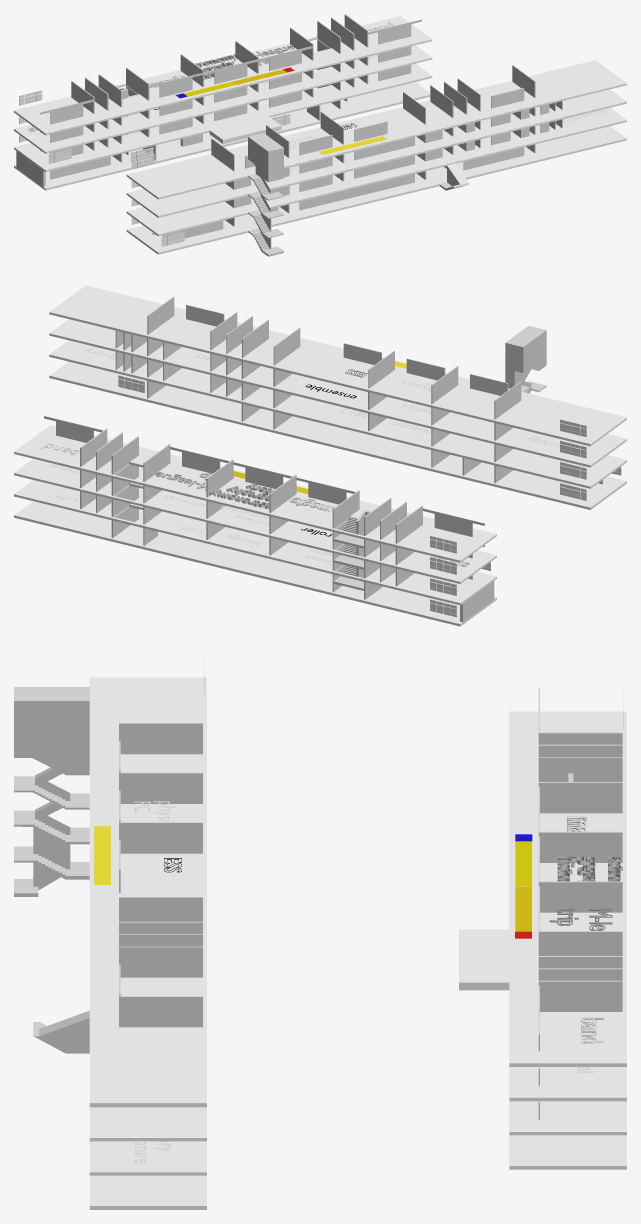
The model's file is fromshogitomagic.glb.
3 views of the same model, one above another, from view 1: azimuth 30°, elevation 25°; view 2: azimuth 150°, elevation 25°; view 3: azimuth 270°, elevation 25° (orthographic). The views are drawn at different scales.
Parts seen in each view (by area): view 1: floor S 4F, floor 4F, floor S 3F, floor S 2F, floor S 1F, floor 3F, floor 2F, floor 1F, Str S 4F, wall HomeRoom~HomeRoom.002, ceiling Gate.001, wall 1C~1C (+35 smaller); view 2: floor S 4F, floor S 1F, floor S 2F, floor S 3F, floor 4F, floor 1F, floor 2F, floor 3F, Str S 4F, 天文 地歴, wall Civics~Civics, wall 1D~1D (+27 smaller); view 3: floor S 4F, floor 4F, Str S 4F, floor 1F, floor S 3F, floor S 1F, floor 2F, floor 3F, floor S 2F, ceiling Gate.001, Str S 1F, wall 1A~Out.001 (+24 smaller).
Part boxes in pixels (x1=…): floor S 4F: x1=126, y1=60, x2=626, y2=199; floor 4F: x1=14, y1=16, x2=432, y2=135; floor S 3F: x1=126, y1=89, x2=626, y2=217; floor S 2F: x1=126, y1=108, x2=626, y2=236; floor S 1F: x1=126, y1=126, x2=626, y2=254; floor 3F: x1=14, y1=45, x2=432, y2=153; floor 2F: x1=14, y1=63, x2=432, y2=172; floor 1F: x1=14, y1=82, x2=430, y2=190; Str S 4F: x1=248, y1=133, x2=283, y2=200; wall HomeRoom~HomeRoom.002: x1=299, y1=174, x2=414, y2=210; ceiling Gate.001: x1=209, y1=116, x2=281, y2=143; wall 1C~1C: x1=204, y1=59, x2=257, y2=84; floor S 4F: x1=49, y1=285, x2=626, y2=446; floor S 1F: x1=49, y1=361, x2=626, y2=509; floor S 2F: x1=49, y1=340, x2=626, y2=488; floor S 3F: x1=49, y1=319, x2=626, y2=467; floor 4F: x1=14, y1=425, x2=496, y2=562; floor 1F: x1=14, y1=501, x2=496, y2=626; floor 2F: x1=14, y1=480, x2=496, y2=605; floor 3F: x1=14, y1=459, x2=496, y2=583; Str S 4F: x1=505, y1=326, x2=546, y2=392; 天文 地歴: x1=209, y1=483, x2=274, y2=508; wall Civics~Civics: x1=422, y1=508, x2=484, y2=536; wall 1D~1D: x1=296, y1=477, x2=355, y2=504; floor S 4F: x1=89, y1=677, x2=206, y2=1107; floor 4F: x1=509, y1=711, x2=626, y2=1066; Str S 4F: x1=14, y1=687, x2=89, y2=792; floor 1F: x1=509, y1=1135, x2=626, y2=1169; floor S 3F: x1=89, y1=1107, x2=206, y2=1141; floor S 1F: x1=89, y1=1175, x2=206, y2=1209; floor 2F: x1=509, y1=1101, x2=626, y2=1135; floor 3F: x1=509, y1=1067, x2=626, y2=1101; floor S 2F: x1=89, y1=1141, x2=206, y2=1175; ceiling Gate.001: x1=459, y1=929, x2=509, y2=990; Str S 1F: x1=33, y1=842, x2=89, y2=1053; wall 1A~Out.001: x1=119, y1=996, x2=202, y2=1027.
Size of the model in its own units: 90 by 21 by 54.75.
